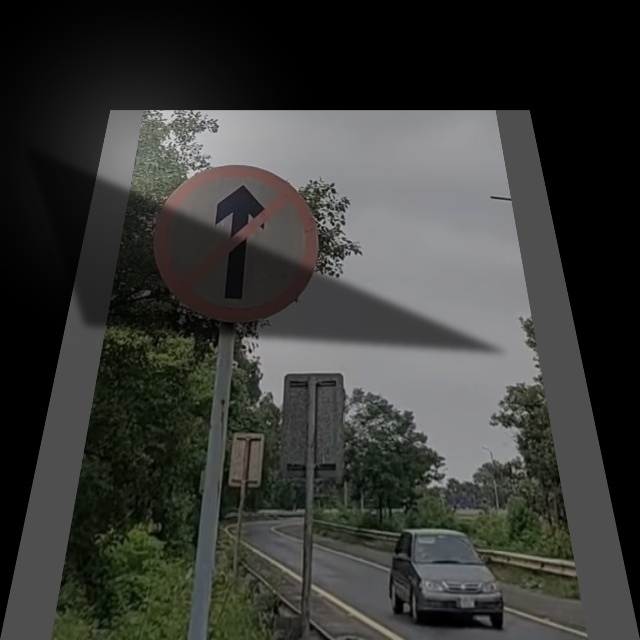No_Entry: (145, 166, 319, 323)
